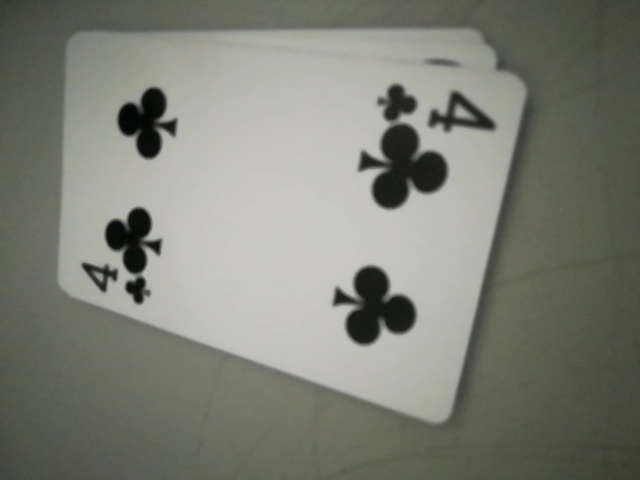mh 4: (376, 73, 502, 135), (75, 259, 156, 311)
